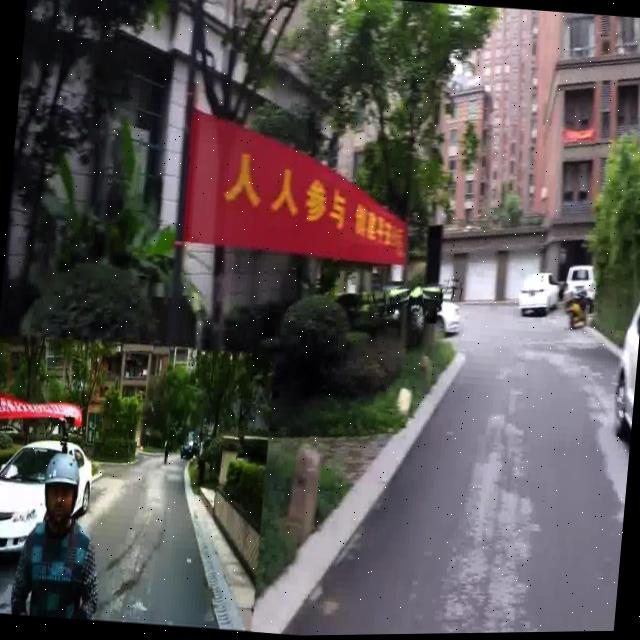drone: (360, 258, 472, 343)
